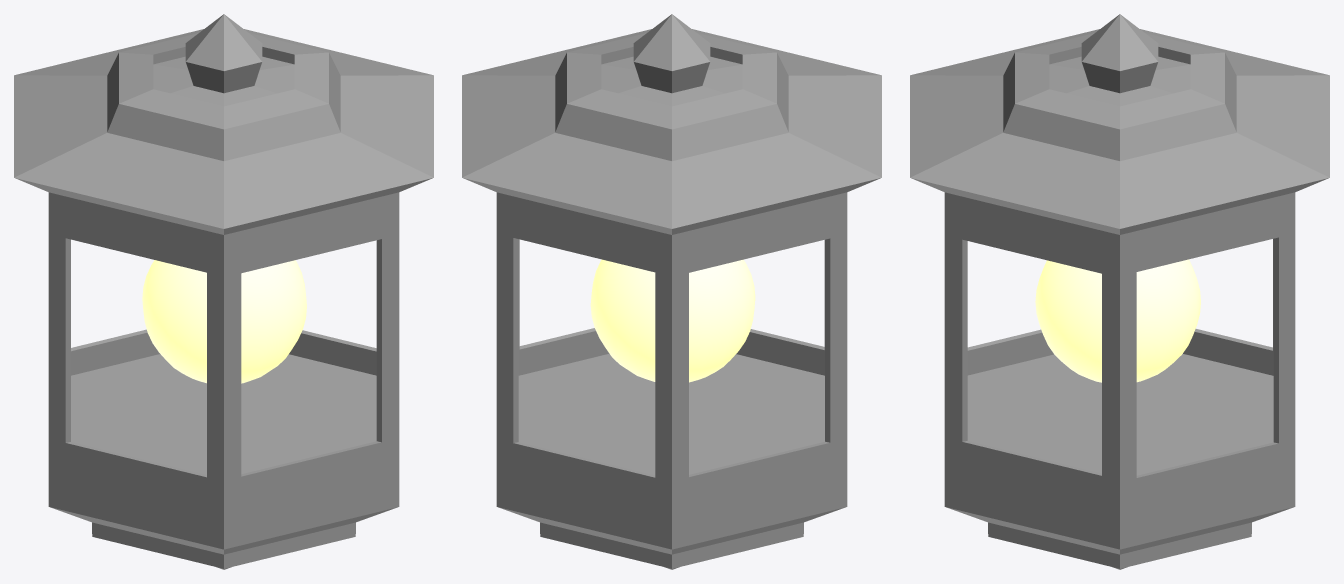
The model's file is Lamp_Light1.fbx.
3 renders of one model, left to right at view 1: azimuth 30°, elevation 25°; view 2: azimuth 150°, elevation 25°; view 3: azimuth 270°, elevation 25°, orthographic.
Parts seen in each view (by area): view 1: Lamp_Light1, Light_Ball1; view 2: Lamp_Light1, Light_Ball1; view 3: Lamp_Light1, Light_Ball1.
Boxes of the visible parts, <box> form: Lamp_Light1: <box>14,14,433,569</box>; Light_Ball1: <box>142,260,306,383</box>; Lamp_Light1: <box>462,14,881,569</box>; Light_Ball1: <box>590,259,755,382</box>; Lamp_Light1: <box>910,14,1329,569</box>; Light_Ball1: <box>1035,259,1200,382</box>.
Bounding box in the file's own units: 2.07 × 2.62 × 1.8.
